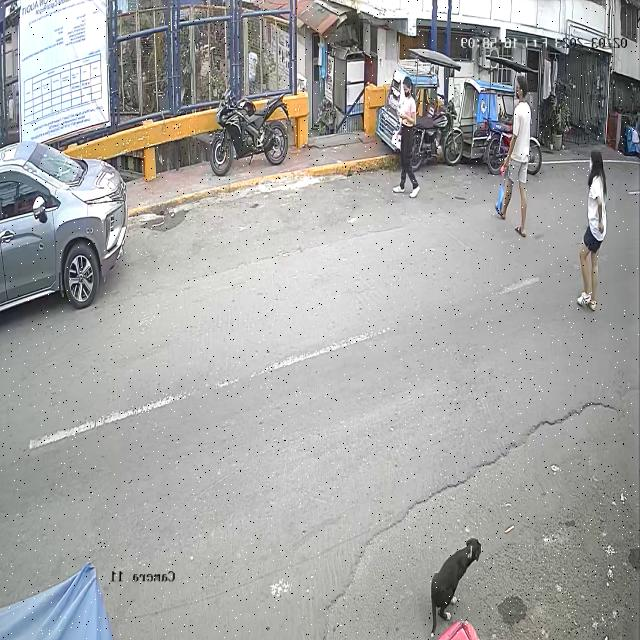human: (494, 76, 532, 239)
trash: (495, 171, 508, 220)
